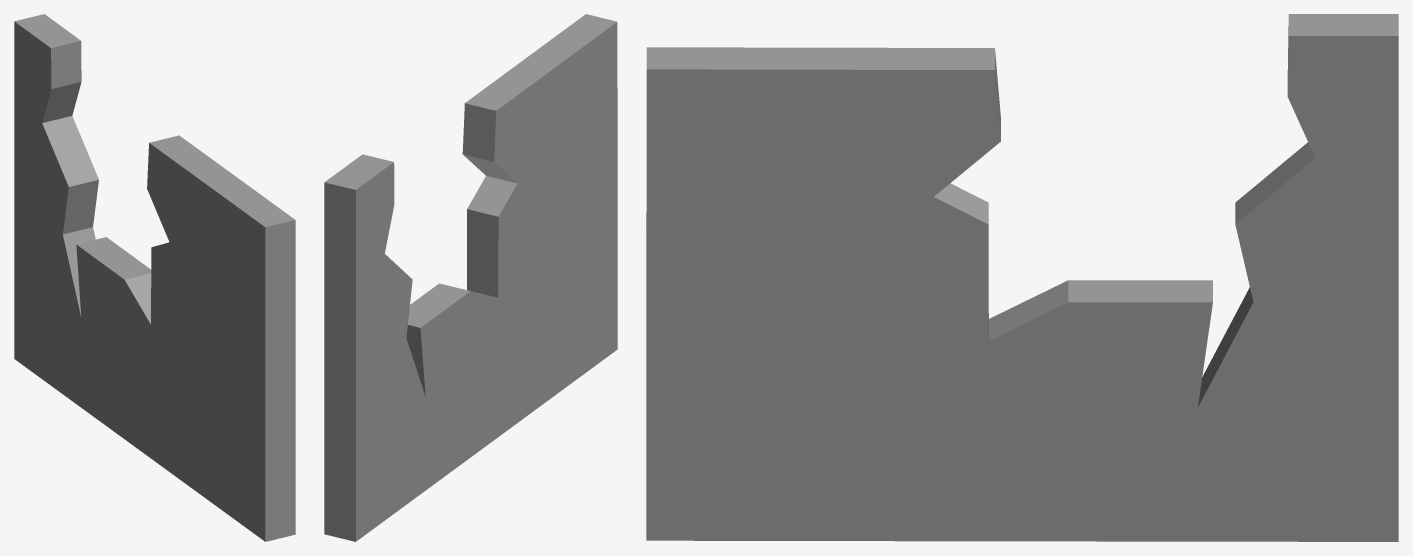
Rendered from wall_9.fbx.
3 renders of one model, left to right at view 1: azimuth 30°, elevation 25°; view 2: azimuth 150°, elevation 25°; view 3: azimuth 270°, elevation 25°, orthographic. The views are drawn at different scales.
Visible parts, largest first — view 1: Object.023; view 2: Object.023; view 3: Object.023.
Part boxes in pixels (x1=…): Object.023: x1=14, y1=14, x2=295, y2=541; Object.023: x1=324, y1=14, x2=617, y2=541; Object.023: x1=646, y1=14, x2=1398, y2=541.
Bounding box in the file's own units: 60 × 641 × 864.
